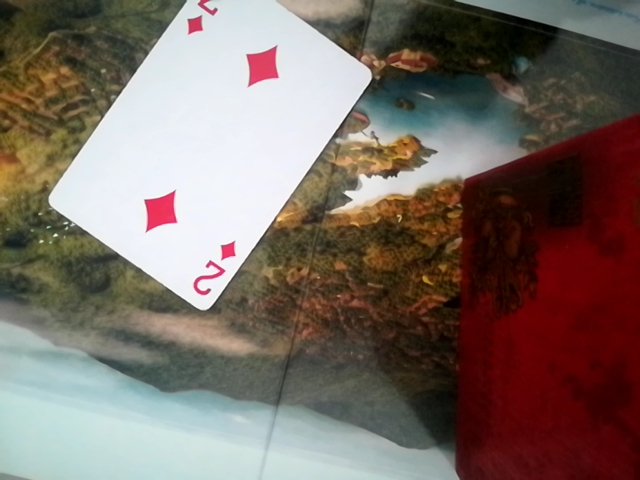fk 2: (41, 0, 380, 317)
